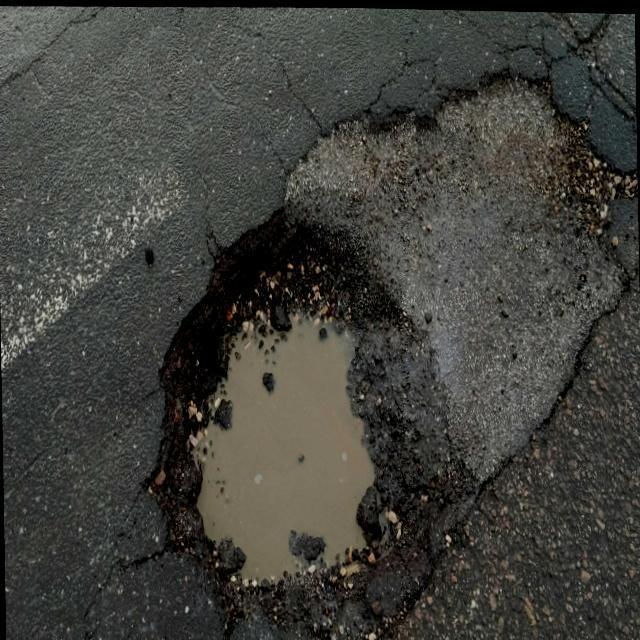Pothole: (149, 72, 638, 640)
